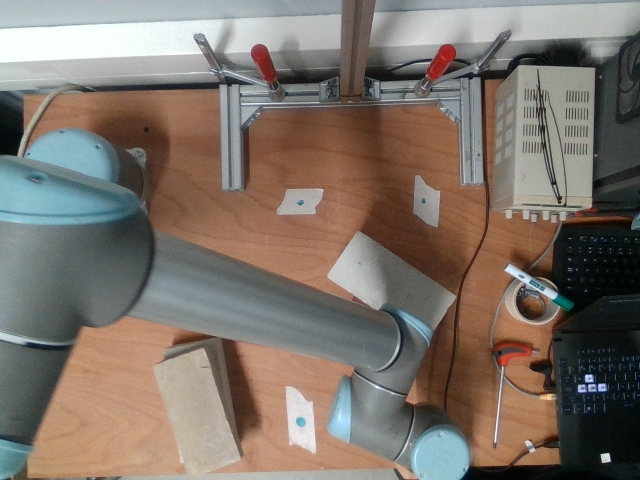brick: (152, 347, 243, 480)
